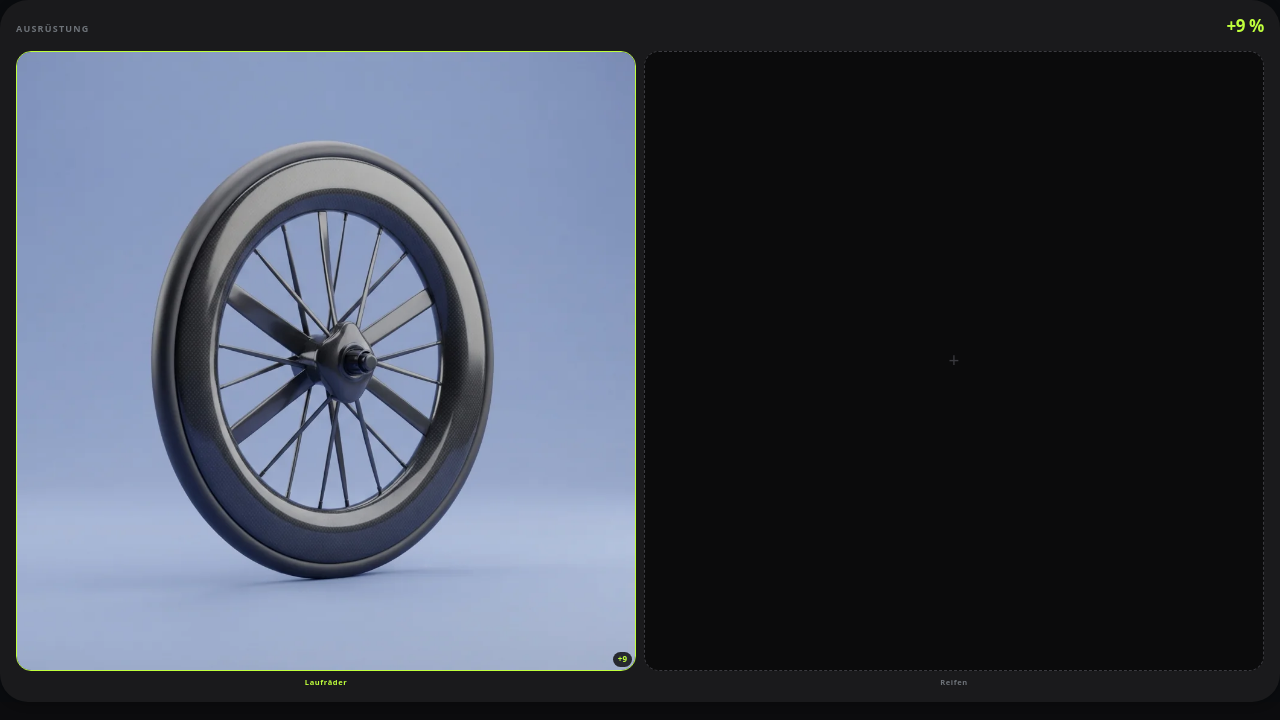
Garage · the slot opens where it was tapped › offers exactly one verb per item, and none for what it cannot afford
The width and height of the screenshot is (1280, 720).
Click the element labelled "+9 Laufräder" at (326, 369), box [16,50,636,688]
(page scrolled)
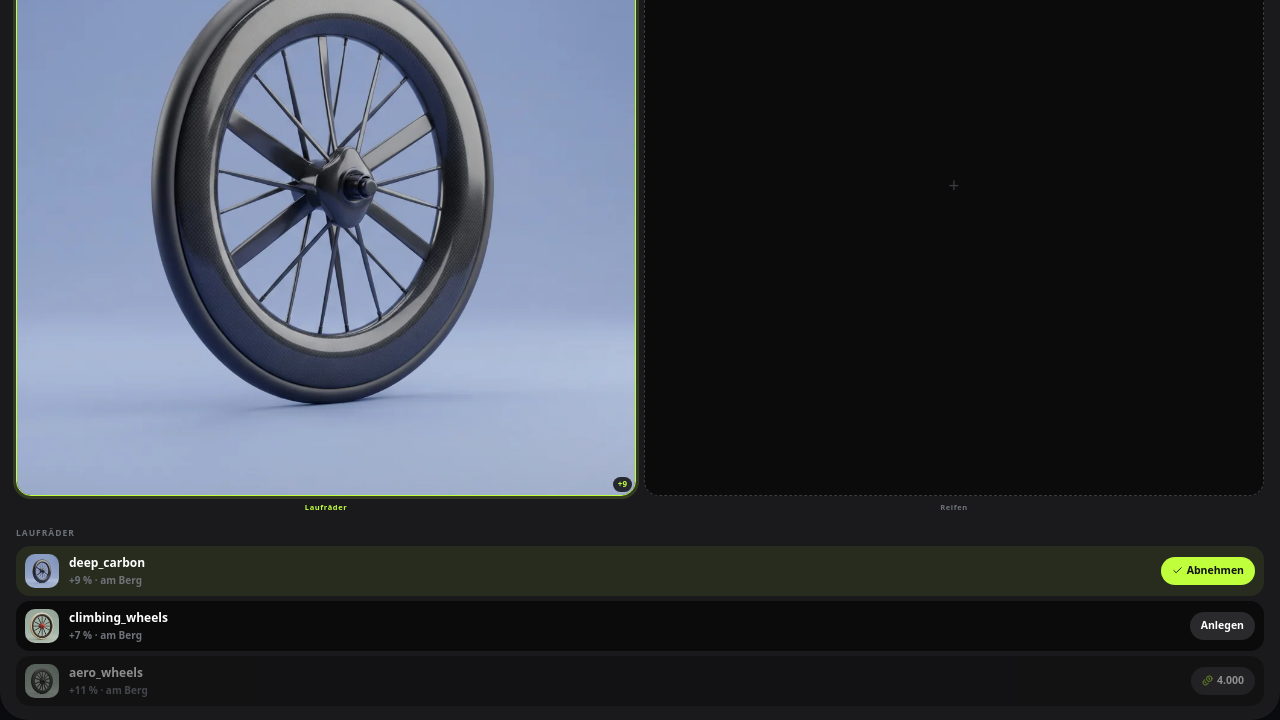
Now the button with aria-label "deep_carbon — Abnehmen" is shown, box [1161,556,1255,584]
Now the button named "aero_wheels — " is disabled, box [1191,666,1255,694]
